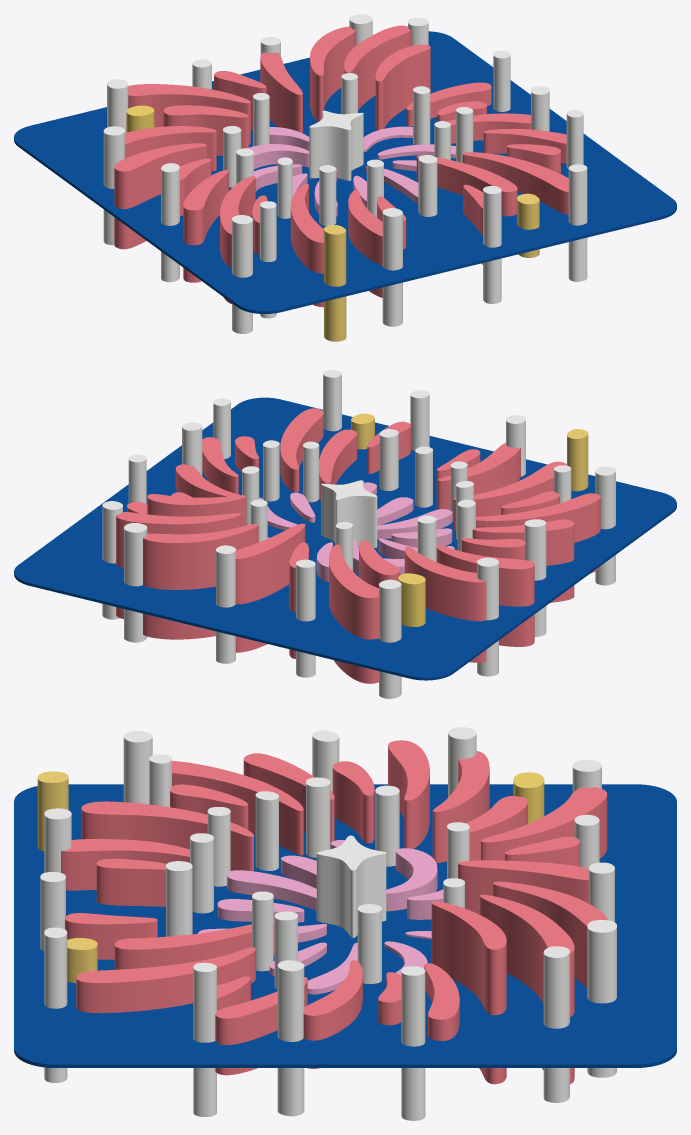
File: emoji_u1f386.glb
3 renders of one model, top to bottom at view 1: azimuth 30°, elevation 25°; view 2: azimuth 150°, elevation 25°; view 3: azimuth 270°, elevation 25°, orthographic. The views are drawn at different scales.
Parts seen in each view (by area): view 1: emoji_u1f386; view 2: emoji_u1f386; view 3: emoji_u1f386.
Part boxes in pixels (bbox=[...]): emoji_u1f386: bbox=[14, 14, 676, 341]; emoji_u1f386: bbox=[14, 370, 676, 698]; emoji_u1f386: bbox=[14, 727, 676, 1120].
Bounding box in the file's own units: 0.034 × 0.0082 × 0.034.
